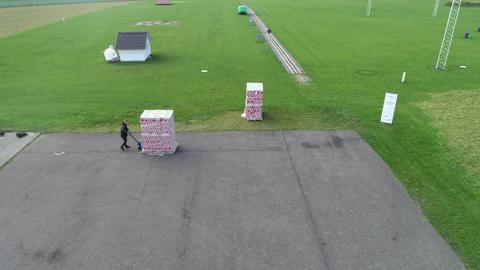RockwoolPallet: (140, 110, 176, 154)
